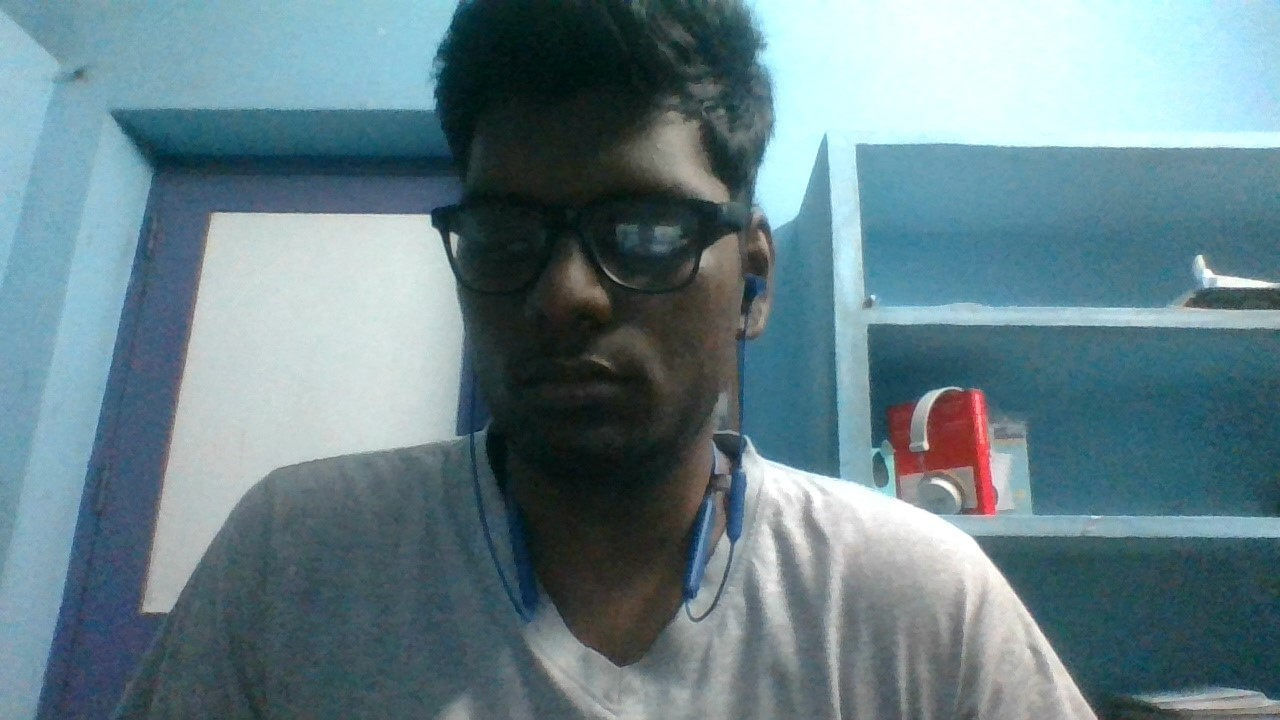person: (162, 4, 1086, 720)
